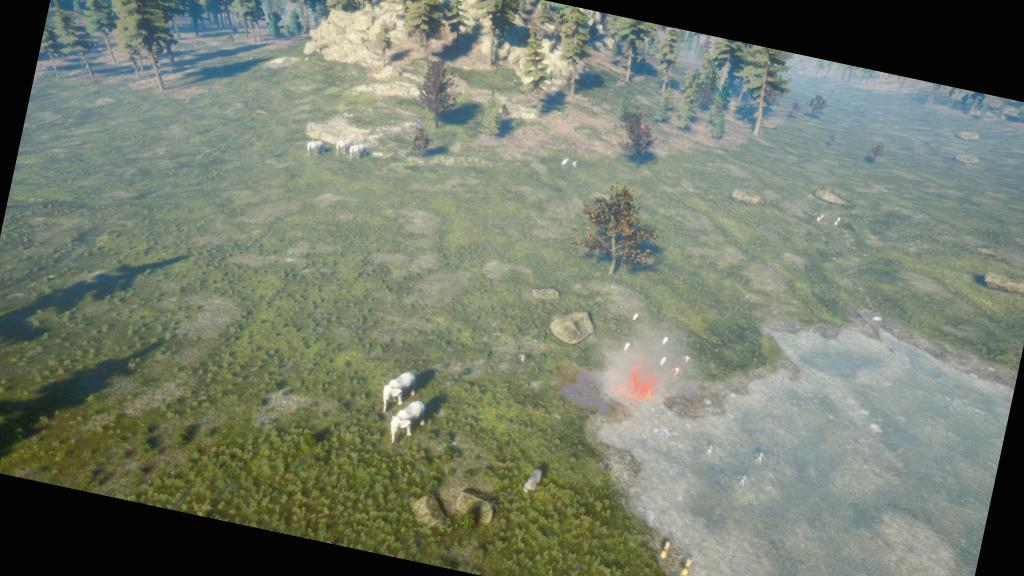Fire: (608, 363, 660, 407)
elephant: (382, 394, 432, 452), (375, 362, 422, 422), (302, 136, 330, 162), (330, 134, 356, 160), (345, 139, 371, 165)
hippopotamus: (518, 464, 547, 500)
human: (734, 472, 752, 492), (700, 441, 717, 462), (750, 450, 768, 468), (513, 351, 530, 368), (678, 352, 694, 368), (668, 365, 684, 381)
lion: (653, 533, 674, 564), (677, 555, 695, 575)
pig: (656, 333, 672, 348), (628, 310, 642, 325), (620, 340, 634, 355), (658, 354, 670, 369)
smoke: (601, 302, 700, 414)
